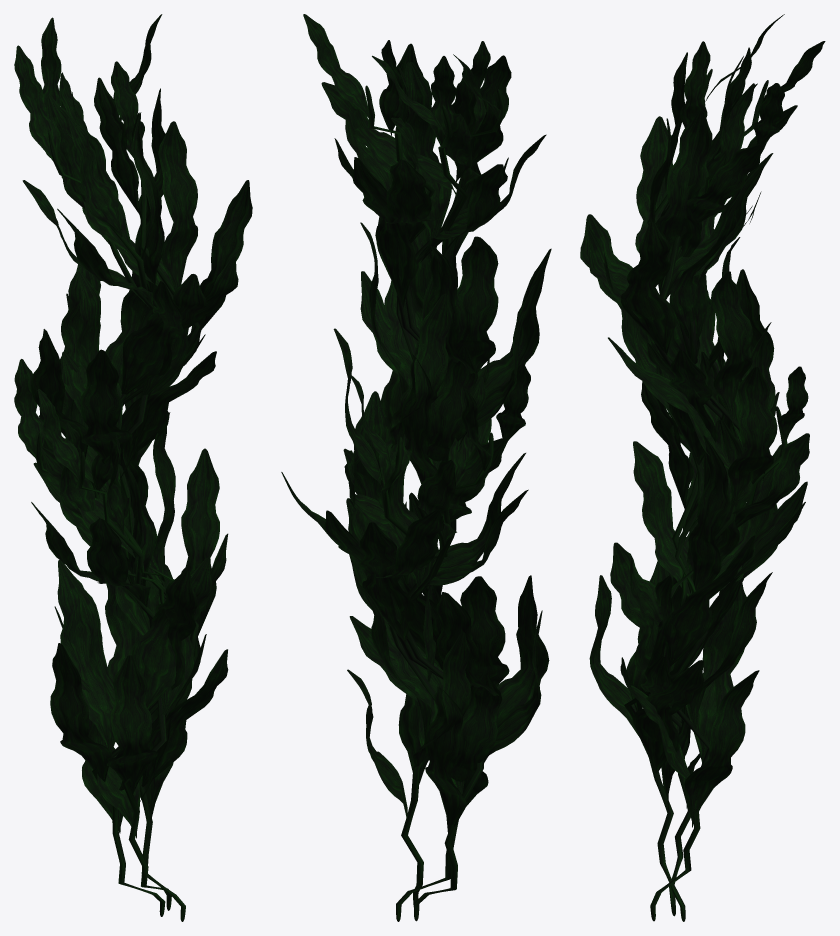
The picture shows the model from 3 angles, left to right: view 1: azimuth 30°, elevation 25°; view 2: azimuth 150°, elevation 25°; view 3: azimuth 270°, elevation 25°; orthographic projection. The views are drawn at different scales.
Visible parts, largest first — view 1: TallSeaweed; view 2: TallSeaweed; view 3: TallSeaweed.
Boxes of the visible parts, x1,y1,x2,y2 form: TallSeaweed: [14, 14, 252, 921]; TallSeaweed: [281, 14, 551, 921]; TallSeaweed: [580, 14, 825, 921].
Bounding box in the file's own units: 0.4965 × 2 × 0.5176.
1 material, 1 textured.
